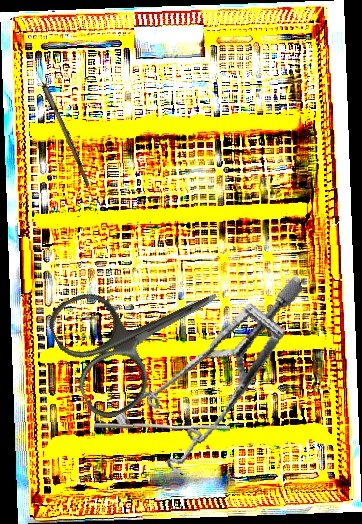Iris Scissors: (42, 240, 245, 426)
Pusher: (93, 420, 231, 434)
Speculum: (93, 274, 339, 488)
Surgical Spoon: (23, 48, 94, 187)
